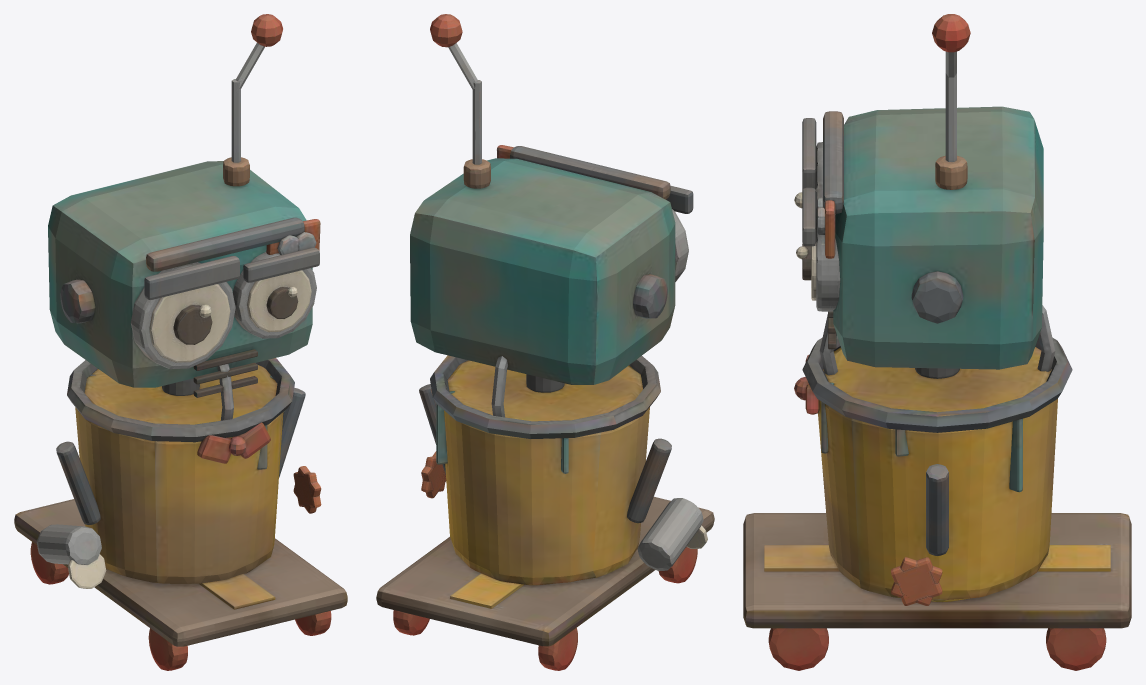
The model's file is scrappy.glb.
The picture shows the model from 3 angles, left to right: view 1: azimuth 30°, elevation 25°; view 2: azimuth 150°, elevation 25°; view 3: azimuth 270°, elevation 25°; orthographic projection. The views are drawn at different scales.
Parts seen in each view (by area): view 1: Body_Mesh, Head_Mesh, Chassis_Mesh, EyeL_Mesh, ArmL_Mesh, EyeR_Mesh, Antenna_Mesh, LidL_Mesh, ArmR_Mesh, LidR_Mesh, Wheel0_Mesh, Wheel2_Mesh (+1 smaller); view 2: Head_Mesh, Body_Mesh, Chassis_Mesh, ArmL_Mesh, Antenna_Mesh, ArmR_Mesh, Wheel2_Mesh, Wheel0_Mesh, EyeL_Mesh, Wheel3_Mesh, LidL_Mesh; view 3: Head_Mesh, Body_Mesh, Chassis_Mesh, ArmR_Mesh, Antenna_Mesh, EyeR_Mesh, Wheel1_Mesh, Wheel3_Mesh, LidL_Mesh, LidR_Mesh.
Boxes of the visible parts, left/top/right/bottom form: Body_Mesh: left=67, top=358, right=294, bottom=583; Head_Mesh: left=48, top=161, right=320, bottom=397; Chassis_Mesh: left=14, top=499, right=347, bottom=646; EyeL_Mesh: left=131, top=262, right=235, bottom=369; ArmL_Mesh: left=36, top=441, right=106, bottom=588; EyeR_Mesh: left=233, top=252, right=316, bottom=338; Antenna_Mesh: left=223, top=14, right=282, bottom=186; LidL_Mesh: left=144, top=256, right=239, bottom=299; ArmR_Mesh: left=279, top=387, right=321, bottom=513; LidR_Mesh: left=243, top=247, right=319, bottom=282; Wheel0_Mesh: left=148, top=628, right=187, bottom=670; Wheel2_Mesh: left=30, top=542, right=68, bottom=584; Head_Mesh: left=410, top=145, right=675, bottom=392; Body_Mesh: left=430, top=355, right=660, bottom=585; Chassis_Mesh: left=376, top=496, right=714, bottom=646; ArmL_Mesh: left=627, top=438, right=707, bottom=570; Antenna_Mesh: left=430, top=14, right=490, bottom=188; ArmR_Mesh: left=419, top=384, right=446, bottom=498; Wheel2_Mesh: left=538, top=628, right=577, bottom=670; Wheel0_Mesh: left=658, top=547, right=697, bottom=583; EyeL_Mesh: left=672, top=209, right=688, bottom=281; Wheel3_Mesh: left=393, top=610, right=429, bottom=635; LidL_Mesh: left=666, top=186, right=693, bottom=213; Head_Mesh: left=817, top=106, right=1043, bottom=378; Body_Mesh: left=794, top=305, right=1072, bottom=602; Chassis_Mesh: left=743, top=513, right=1131, bottom=628; ArmR_Mesh: left=891, top=464, right=948, bottom=605; Antenna_Mesh: left=932, top=14, right=970, bottom=189; EyeR_Mesh: left=796, top=207, right=840, bottom=311; Wheel1_Mesh: left=768, top=628, right=828, bottom=670; Wheel3_Mesh: left=1046, top=628, right=1106, bottom=670; LidL_Mesh: left=802, top=118, right=816, bottom=189; LidR_Mesh: left=802, top=187, right=816, bottom=246.
Bounding box in the file's own units: 0.5062 × 1.06 × 0.56.
14 materials, 14 textured.
